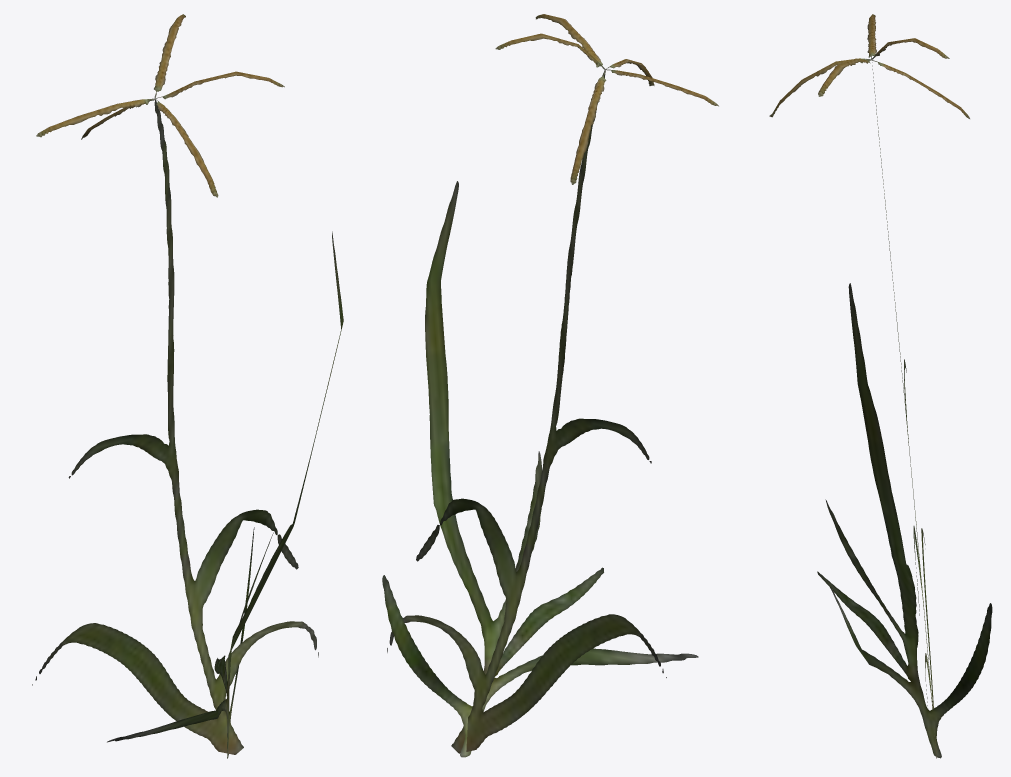
Rendered from grass_bermuda_01_seedling_a.gltf.
The picture shows the model from 3 angles, left to right: view 1: azimuth 30°, elevation 25°; view 2: azimuth 150°, elevation 25°; view 3: azimuth 270°, elevation 25°; orthographic projection. The views are drawn at different scales.
Parts seen in each view (by area): view 1: grass_bermuda_01_seedling_a; view 2: grass_bermuda_01_seedling_a; view 3: grass_bermuda_01_seedling_a.
Boxes of the visible parts, left/top/right/bottom form: grass_bermuda_01_seedling_a: left=32, top=14, right=343, bottom=758; grass_bermuda_01_seedling_a: left=382, top=14, right=718, bottom=757; grass_bermuda_01_seedling_a: left=769, top=14, right=992, bottom=758.
Bounding box in the file's own units: 0.0678 × 0.1509 × 0.0456.
Materials: 1 (1 with a texture image).
